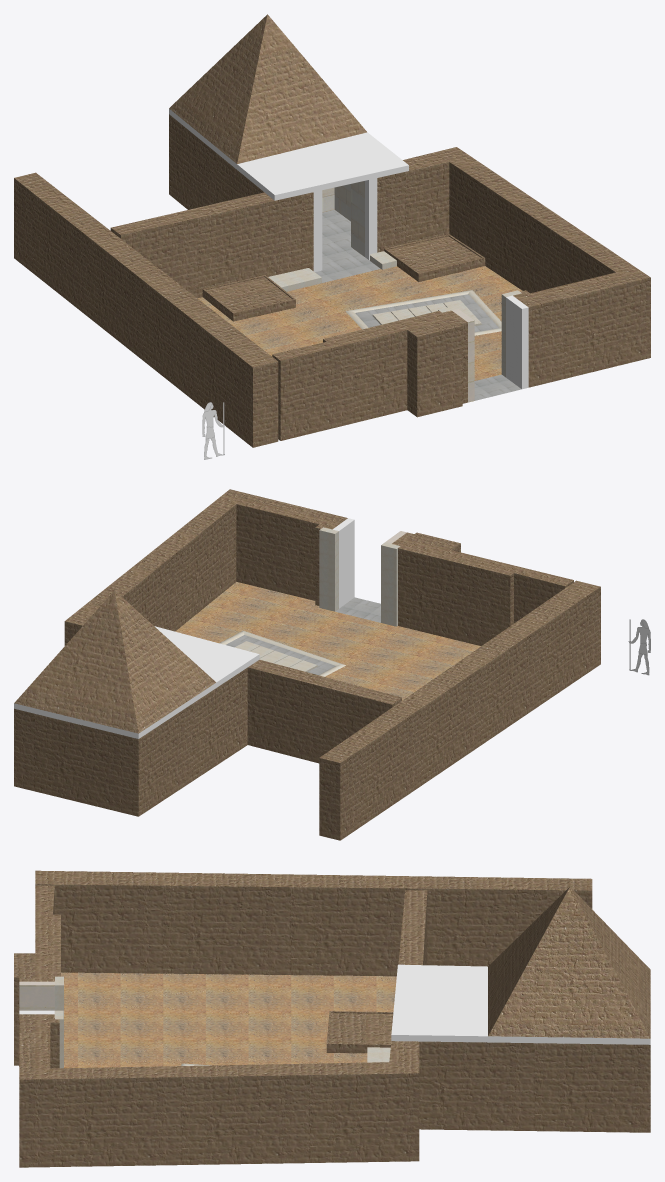
The model's file is Anonymous_Dyn18.obj.
3 renders of one model, top to bottom at view 1: azimuth 30°, elevation 25°; view 2: azimuth 150°, elevation 25°; view 3: azimuth 270°, elevation 25°, orthographic. The views are drawn at different scales.
Parts seen in each view (by area): view 1: Mesh1 Model, Mesh4 Model; view 2: Mesh1 Model, Mesh4 Model; view 3: Mesh1 Model.
Part boxes in pixels (box(x1,y1,x2,y2)): Mesh1 Model: box(14, 14, 650, 447); Mesh4 Model: box(202, 402, 225, 459); Mesh1 Model: box(14, 489, 600, 840); Mesh4 Model: box(628, 619, 650, 675); Mesh1 Model: box(14, 870, 650, 1167).
Bounding box in the file's own units: 13.08 × 5.45 × 14.9.
Materials: 8 (7 with a texture image).
